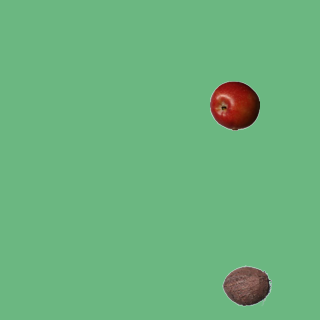Apple Braeburn: (209, 80, 259, 130)
Cocos: (221, 260, 271, 310)
